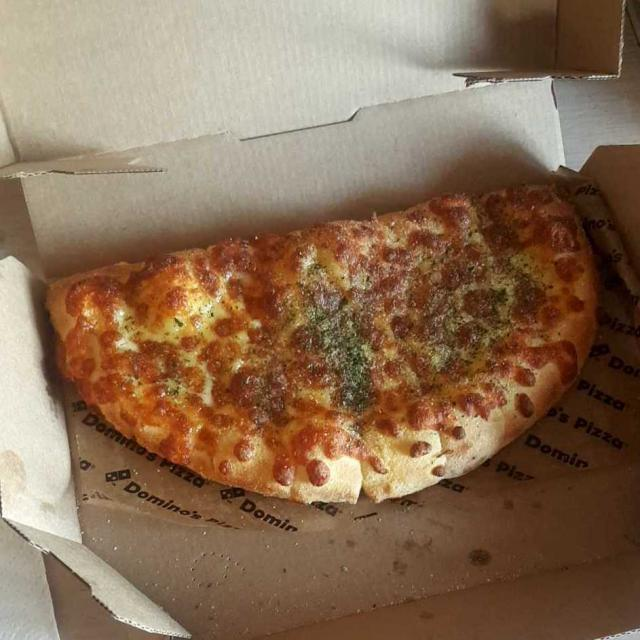pizza: (51, 190, 596, 499)
